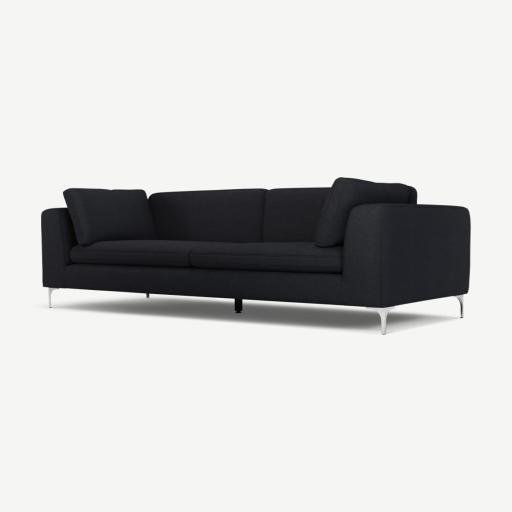back_cushion: (64, 177, 416, 247)
base: (57, 264, 352, 305)
left_arm: (341, 204, 470, 306)
legs: (369, 306, 395, 335), (48, 287, 59, 308), (454, 295, 463, 318), (233, 298, 242, 313)
right_arm: (42, 209, 76, 294)
seat_cushion: (70, 240, 342, 274)
two-seater: (0, 0, 511, 512)
